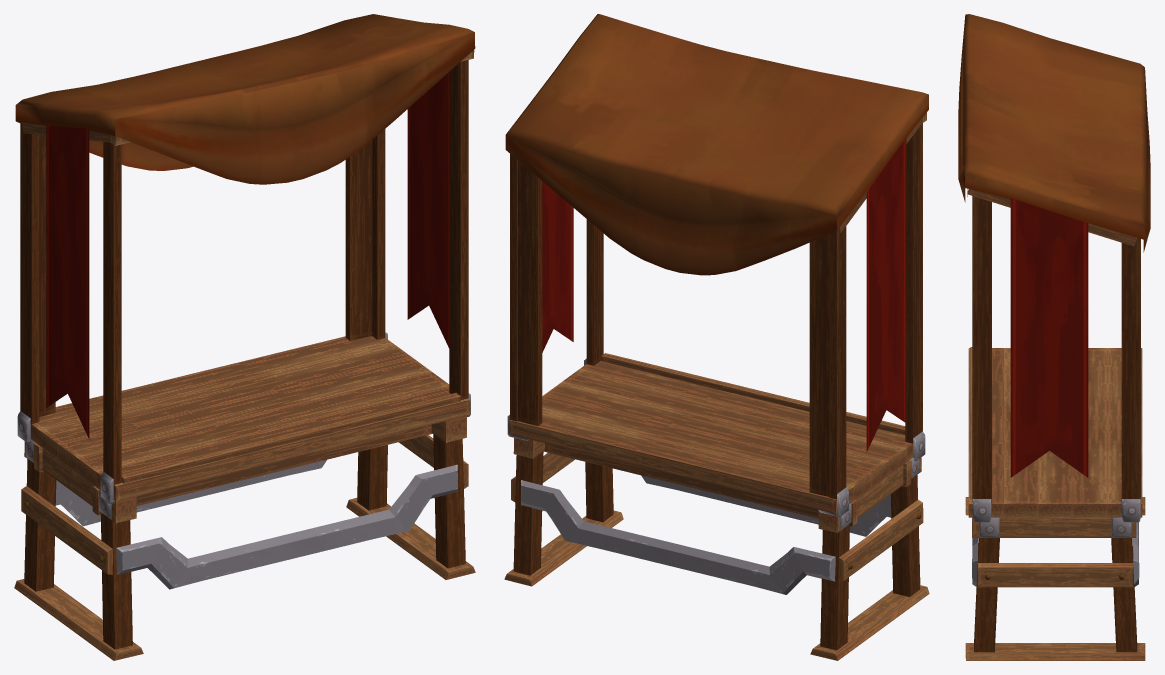
File: quaternius-fantasy-props-stall-empty.glb
3 views of the same model, side by side, from view 1: azimuth 30°, elevation 25°; view 2: azimuth 150°, elevation 25°; view 3: azimuth 270°, elevation 25° (orthographic). The views are drawn at different scales.
Visible parts, largest first — view 1: Stall_Empty; view 2: Stall_Empty; view 3: Stall_Empty.
Part boxes in pixels (<box>): Stall_Empty: <box>14,14,475,660</box>; Stall_Empty: <box>504,14,929,660</box>; Stall_Empty: <box>958,14,1150,660</box>.
Size of the model in its own units: 1.84 by 2.63 by 0.9323.
3 materials, 3 textured.
